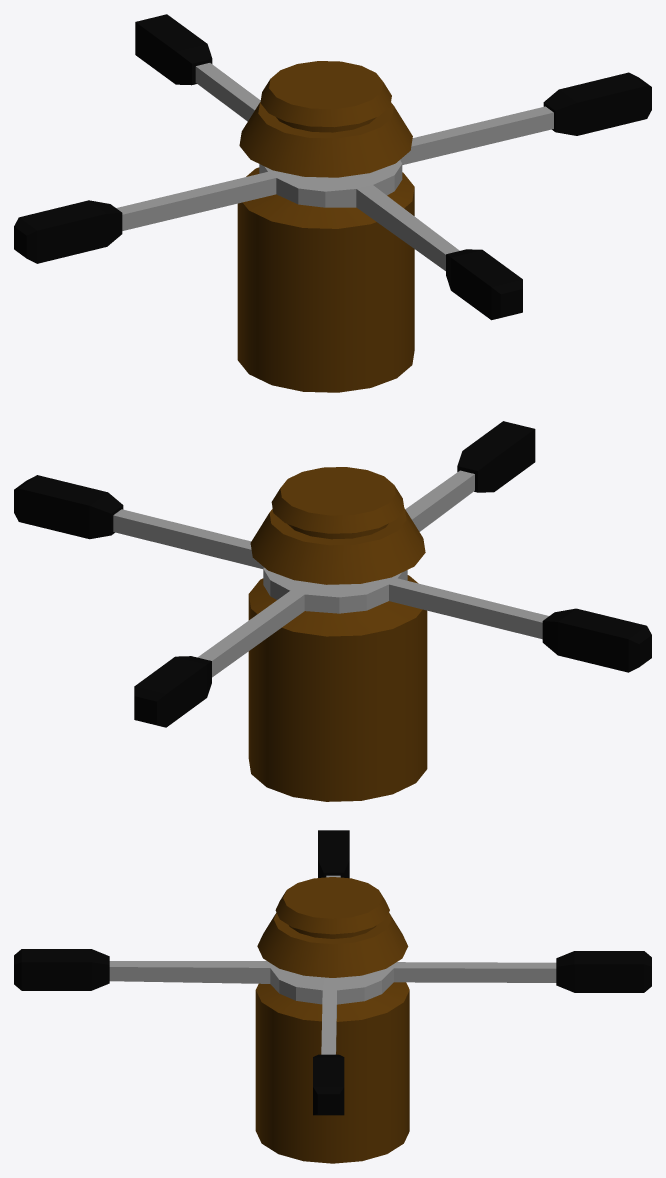
Rendered from torno.fbx.
The picture shows the model from 3 angles, top to bottom: view 1: azimuth 30°, elevation 25°; view 2: azimuth 150°, elevation 25°; view 3: azimuth 270°, elevation 25°; orthographic projection. The views are drawn at different scales.
Parts seen in each view (by area): view 1: Cylinder.1066, Cylinder.1067, Cube.457, Cube.456, Cube.458, Cube.459; view 2: Cylinder.1066, Cylinder.1067, Cube.457, Cube.456, Cube.459, Cube.458; view 3: Cylinder.1066, Cylinder.1067, Cube.458, Cube.459, Cube.456, Cube.457.
Part boxes in pixels (box(x1,y1,x2,y2)): Cylinder.1066: box(237, 61, 414, 392); Cylinder.1067: box(116, 63, 553, 270); Cube.457: box(14, 200, 122, 263); Cube.456: box(543, 72, 651, 135); Cube.458: box(446, 249, 522, 320); Cube.459: box(135, 14, 212, 85); Cylinder.1066: box(248, 467, 427, 801); Cylinder.1067: box(113, 470, 548, 677); Cube.457: box(542, 608, 651, 672); Cube.456: box(14, 475, 123, 539); Cube.459: box(134, 656, 211, 727); Cube.458: box(457, 421, 535, 492); Cylinder.1066: box(255, 877, 409, 1163); Cylinder.1067: box(109, 875, 556, 1054); Cube.458: box(14, 949, 109, 990); Cube.459: box(556, 951, 651, 992); Cube.456: box(313, 1054, 344, 1115); Cube.457: box(318, 830, 349, 878).
Size of the model in its own units: 298 by 123 by 306.
